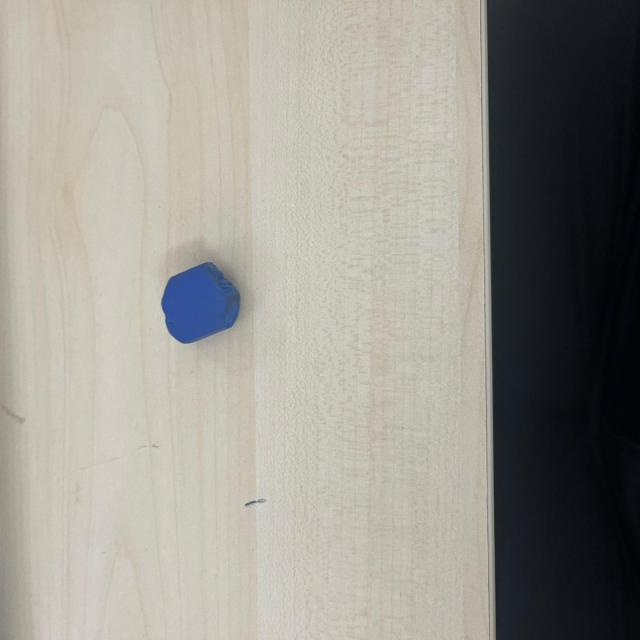eraser: (162, 260, 240, 346)
